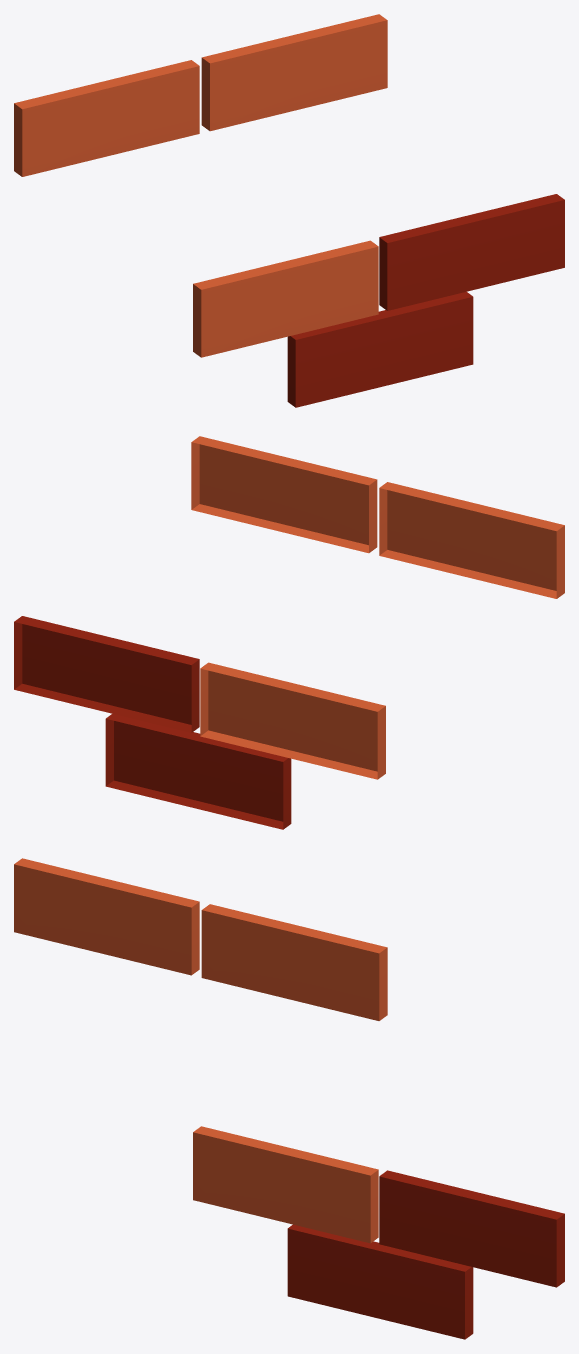
File: Decor_Gach_02.fbx
3 renders of one model, top to bottom at view 1: azimuth 30°, elevation 25°; view 2: azimuth 150°, elevation 25°; view 3: azimuth 330°, elevation 25°, orthographic.
Visible parts, largest first — view 1: Decor_Gach_02; view 2: Decor_Gach_02; view 3: Decor_Gach_02.
Part boxes in pixels (x1,y1,x2,y2): Decor_Gach_02: (14,14,564,407); Decor_Gach_02: (14,436,564,829); Decor_Gach_02: (14,858,564,1339).
Bounding box in the file's own units: 230 × 148 × 6.06.
